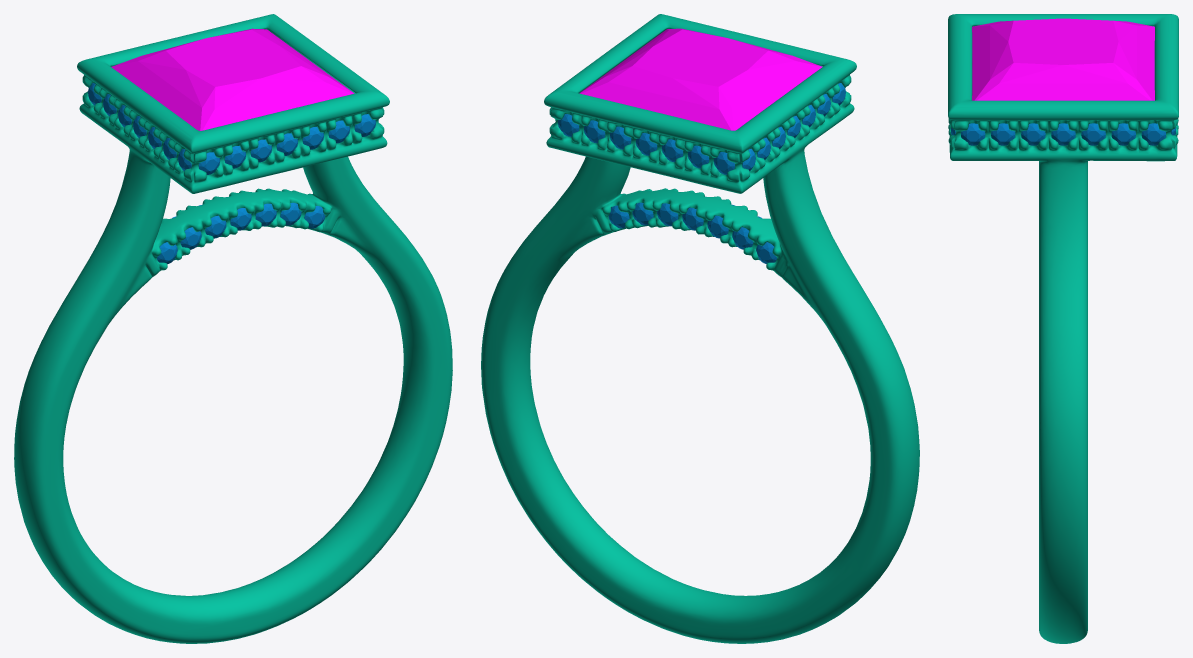
The model's file is BE1D1678_PR_200ct_RENDER.glb.
3 views of the same model, side by side, from view 1: azimuth 30°, elevation 25°; view 2: azimuth 150°, elevation 25°; view 3: azimuth 270°, elevation 25° (orthographic).
Visible parts, largest first — view 1: Metal 01, CS_Diamond_Princess; view 2: Metal 01, CS_Diamond_Princess; view 3: Metal 01, CS_Diamond_Princess, Diamond_Round_Gem_HD.020, Diamond_Round_Gem_HD.021, Diamond_Round_Gem_HD.018, Diamond_Round_Gem_HD.037, Diamond_Round_Gem_HD.019, Diamond_Round_Gem_HD.035, Diamond_Round_Gem_HD.036.
Boxes of the visible parts, bbox=[...] form: Metal 01: bbox=[14, 14, 452, 643]; CS_Diamond_Princess: bbox=[111, 28, 354, 130]; Metal 01: bbox=[481, 14, 919, 643]; CS_Diamond_Princess: bbox=[579, 28, 822, 130]; Metal 01: bbox=[948, 14, 1178, 643]; CS_Diamond_Princess: bbox=[972, 18, 1154, 100]; Diamond_Round_Gem_HD.020: bbox=[961, 123, 985, 145]; Diamond_Round_Gem_HD.021: bbox=[1051, 123, 1075, 145]; Diamond_Round_Gem_HD.018: bbox=[1021, 123, 1045, 145]; Diamond_Round_Gem_HD.037: bbox=[1081, 123, 1105, 145]; Diamond_Round_Gem_HD.019: bbox=[991, 123, 1015, 145]; Diamond_Round_Gem_HD.035: bbox=[1141, 123, 1165, 145]; Diamond_Round_Gem_HD.036: bbox=[1111, 123, 1135, 145].
Bounding box in the file's own units: 20.26 × 26.08 × 9.43.
